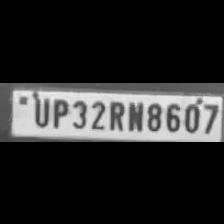0: (182, 100, 200, 132)
2: (87, 97, 105, 129)
3: (68, 96, 86, 128)
6: (163, 99, 181, 131)
7: (200, 100, 220, 134)
8: (144, 99, 162, 131)
N: (126, 97, 144, 131)
P: (50, 96, 68, 127)
R: (105, 98, 124, 130)
U: (31, 96, 50, 126)
